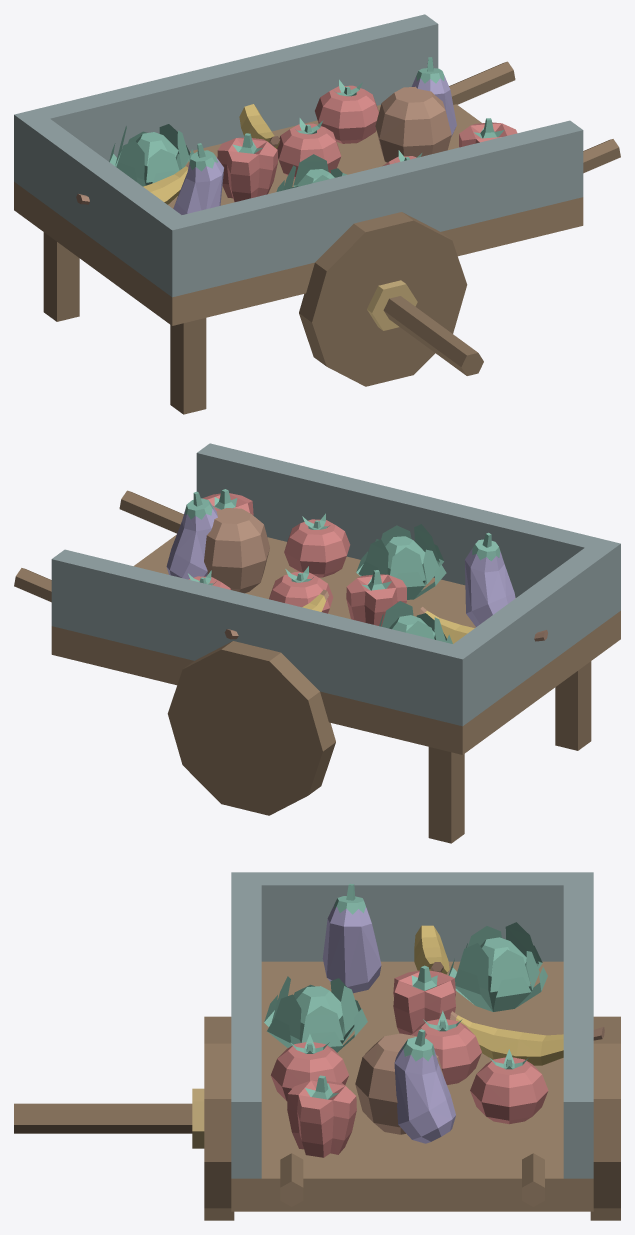
Rendered from obstacle_handcart.glb.
3 renders of one model, top to bottom at view 1: azimuth 30°, elevation 25°; view 2: azimuth 150°, elevation 25°; view 3: azimuth 270°, elevation 25°, orthographic. The views are drawn at different scales.
Visible parts, largest first — view 1: geometry_0; view 2: geometry_0; view 3: geometry_0.
Boxes of the visible parts, x1=… form: geometry_0: x1=14, y1=14, x2=620, y2=414; geometry_0: x1=14, y1=443, x2=620, y2=843; geometry_0: x1=14, y1=872, x2=620, y2=1220.
Bounding box in the file's own units: 1 × 0.447 × 0.9558.
